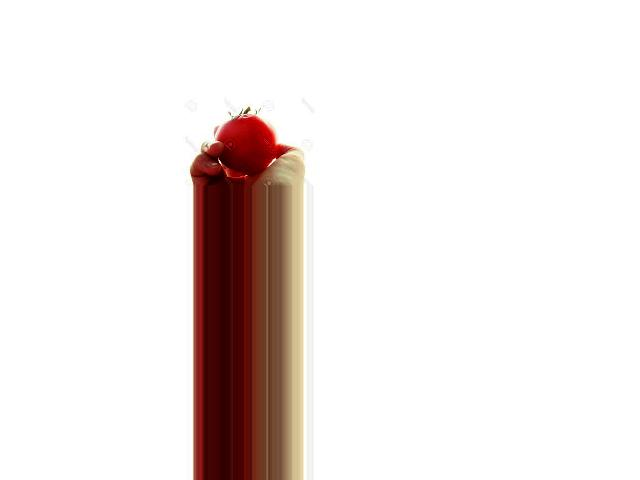tomato: (213, 113, 276, 174)
